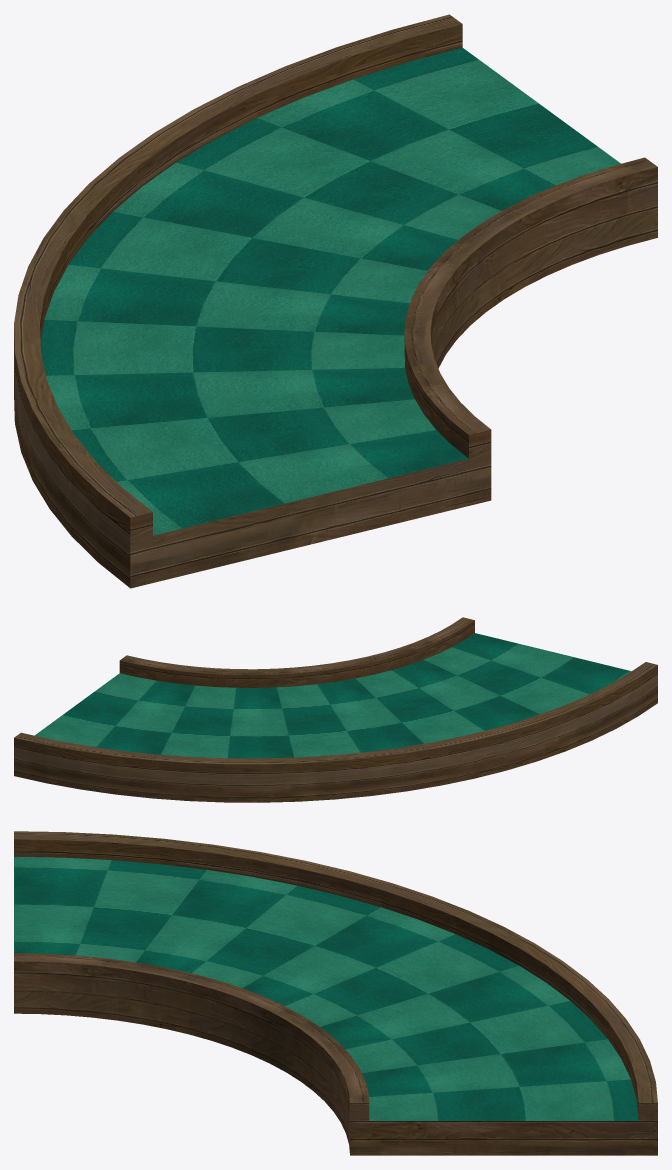
Rendered from PartHalfCurveLowPoly.gltf.
3 views of the same model, one above another, from view 1: azimuth 30°, elevation 25°; view 2: azimuth 150°, elevation 25°; view 3: azimuth 270°, elevation 25° (orthographic). The views are drawn at different scales.
Visible parts, largest first — view 1: PartHalfCurveLowPoly_grass_glb, PartHalfCurveLowPoly_wood_glb; view 2: PartHalfCurveLowPoly_grass_glb, PartHalfCurveLowPoly_wood_glb; view 3: PartHalfCurveLowPoly_grass_glb, PartHalfCurveLowPoly_wood_glb.
Boxes of the visible parts, left/top/right/bottom form: PartHalfCurveLowPoly_grass_glb: left=40, top=47, right=620, bottom=535; PartHalfCurveLowPoly_wood_glb: left=14, top=14, right=657, bottom=588; PartHalfCurveLowPoly_grass_glb: left=35, top=633, right=631, bottom=758; PartHalfCurveLowPoly_wood_glb: left=14, top=617, right=657, bottom=802; PartHalfCurveLowPoly_grass_glb: left=14, top=857, right=638, bottom=1120; PartHalfCurveLowPoly_wood_glb: left=14, top=831, right=657, bottom=1155.
Size of what is drawn, in the model's own units: 8.37 by 0.75 by 8.37.
Materials: 2 (2 with a texture image).
